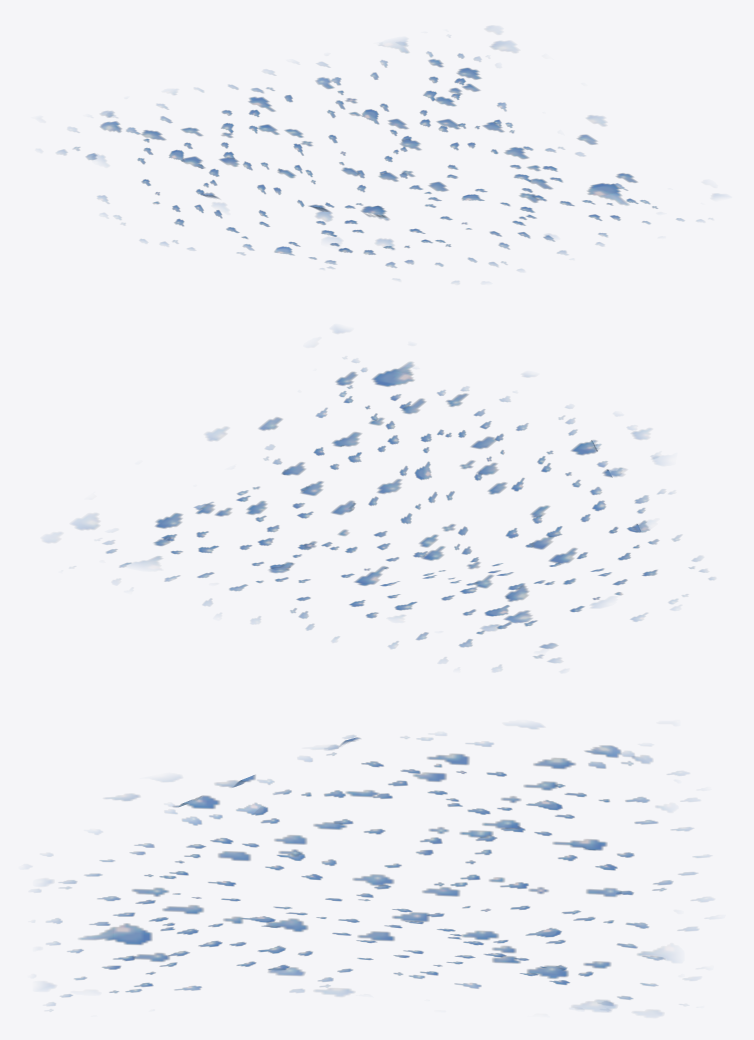
3 views of the same model, one above another, from view 1: azimuth 30°, elevation 25°; view 2: azimuth 150°, elevation 25°; view 3: azimuth 270°, elevation 25° (orthographic). The views are drawn at different scales.
Visible parts, largest first — view 1: 26794; view 2: 26794; view 3: 26794.
Part boxes in pixels (<box>): 26794: <box>56,26,723,284</box>; 26794: <box>44,328,715,671</box>; 26794: <box>31,724,713,1016</box>.
Bounding box in the file's own units: 1.71 × 0.1805 × 1.66.
Materials: 1 (1 with a texture image).
